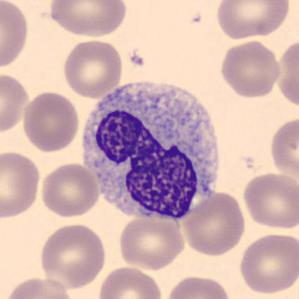Monocyte: (76, 70, 228, 228)
RBC: (37, 222, 108, 290), (179, 189, 248, 257), (116, 212, 187, 271), (20, 89, 81, 154), (61, 37, 124, 99), (218, 38, 282, 99), (237, 231, 297, 296), (39, 161, 102, 218), (241, 170, 298, 230), (47, 0, 130, 39), (213, 0, 293, 40), (0, 149, 43, 220), (96, 264, 164, 299), (0, 0, 31, 71), (0, 70, 32, 135), (267, 115, 299, 180), (274, 35, 299, 109), (164, 273, 232, 299), (2, 275, 75, 299)
